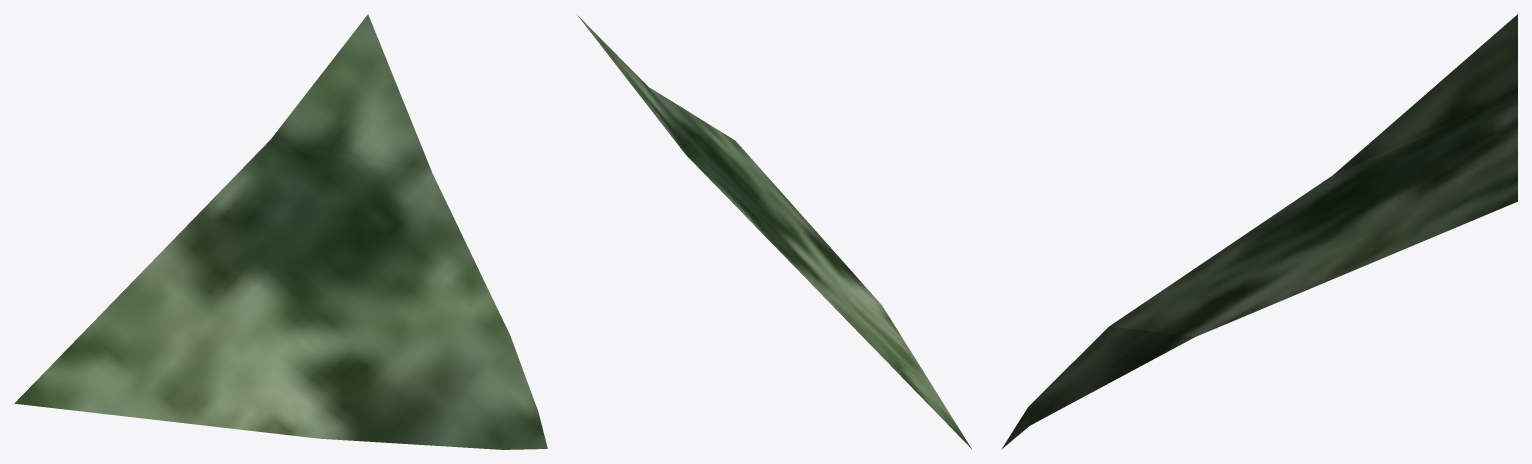
The picture shows the model from 3 angles, left to right: view 1: azimuth 30°, elevation 25°; view 2: azimuth 150°, elevation 25°; view 3: azimuth 270°, elevation 25°; orthographic projection. The views are drawn at different scales.
Bounding box in the file's own units: 0.8332 × 0.682 × 0.7329.
Materials: 1 (1 with a texture image).
